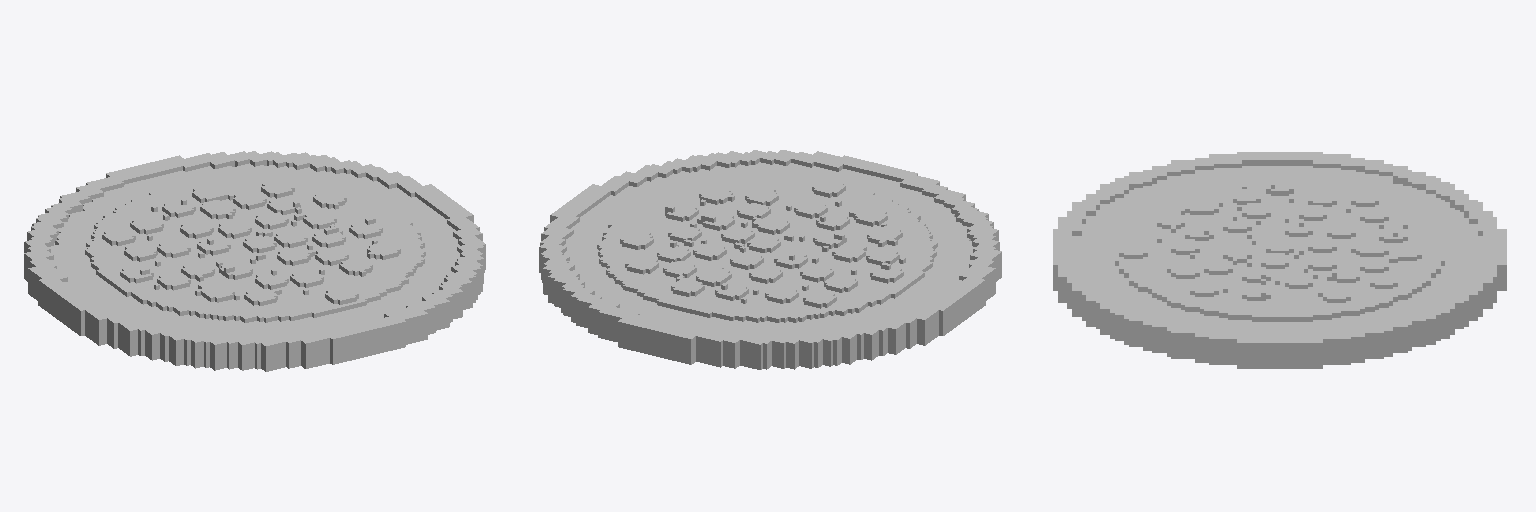
File: PizzaQueso.obj
3 views of the same model, side by side, from view 1: azimuth 30°, elevation 25°; view 2: azimuth 150°, elevation 25°; view 3: azimuth 270°, elevation 25° (orthographic).
Visible parts, largest first — view 1: object 1; view 2: object 1; view 3: object 1.
Boxes of the visible parts, x1,y1,x2,y2 form: object 1: [24, 151, 485, 371]; object 1: [539, 150, 1001, 369]; object 1: [1053, 152, 1506, 368].
Size of the model in its own units: 9.6 by 0.8 by 9.6.